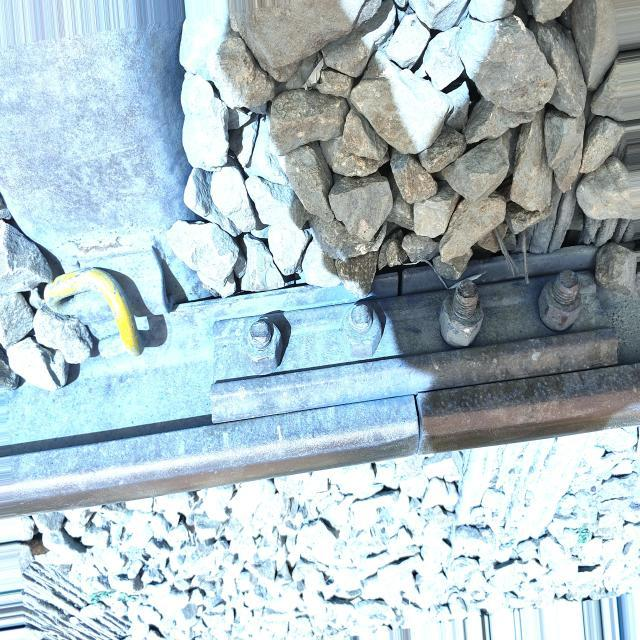Good Fasteners: (31, 216, 171, 371)
Good Joint: (211, 271, 621, 424)
